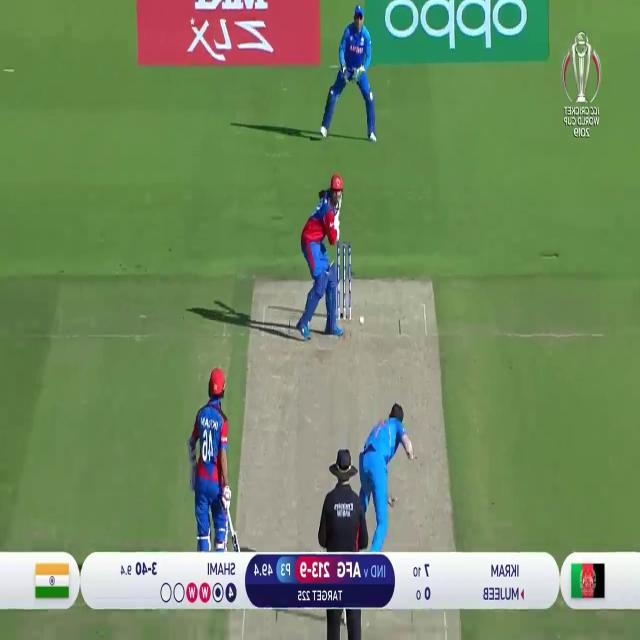ball: (358, 314, 366, 327)
